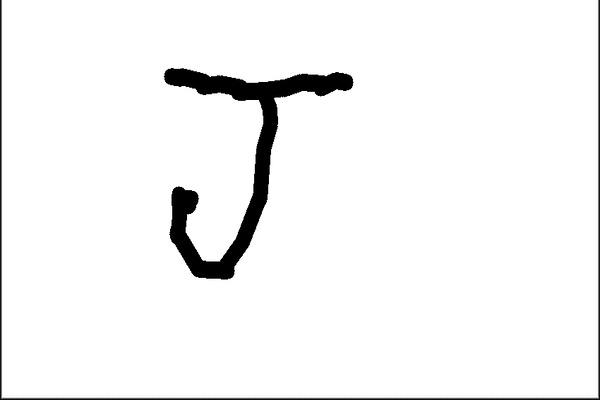J: (154, 58, 357, 283)
